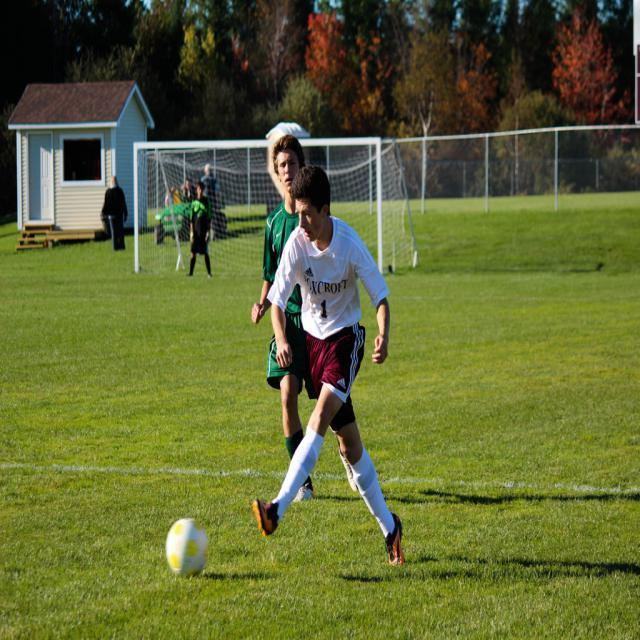football: (145, 505, 221, 576)
